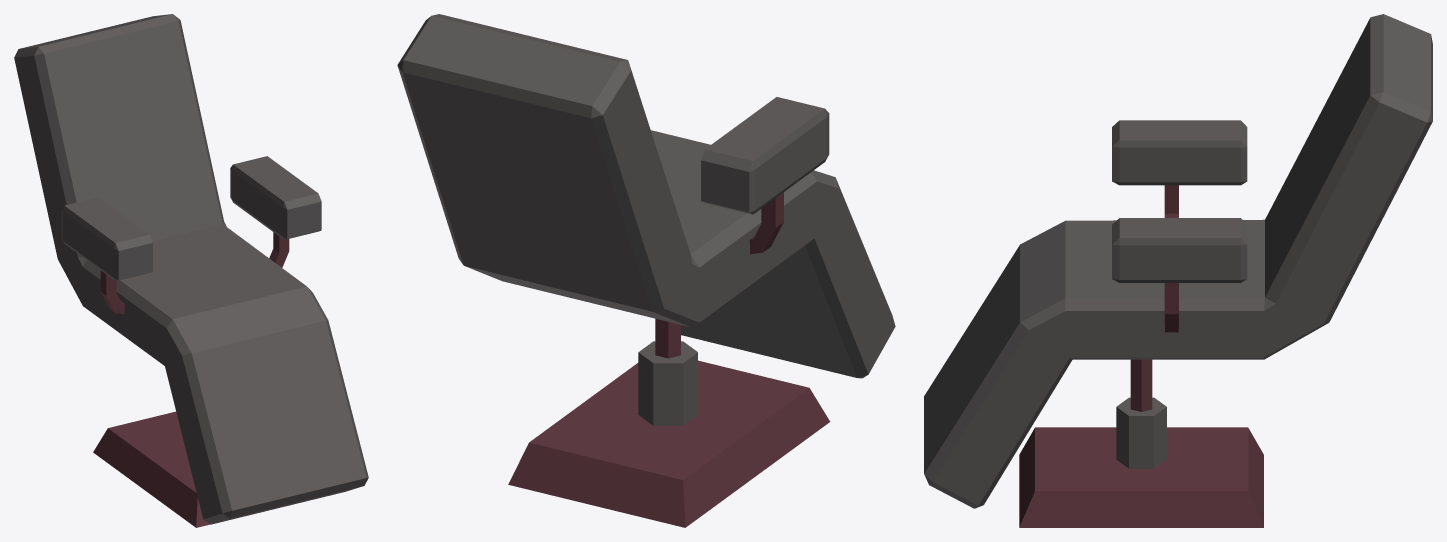
File: chair-tattoo.fbx
3 views of the same model, side by side, from view 1: azimuth 30°, elevation 25°; view 2: azimuth 150°, elevation 25°; view 3: azimuth 270°, elevation 25° (orthographic). The views are drawn at different scales.
Visible parts, largest first — view 1: chair-tattoo; view 2: chair-tattoo; view 3: chair-tattoo.
Boxes of the visible parts, left/top/right/bottom form: chair-tattoo: left=14, top=14, right=368, bottom=527; chair-tattoo: left=397, top=14, right=895, bottom=527; chair-tattoo: left=924, top=14, right=1432, bottom=527.
Size of the model in its own units: 0.7942 by 1.36 by 1.43.
